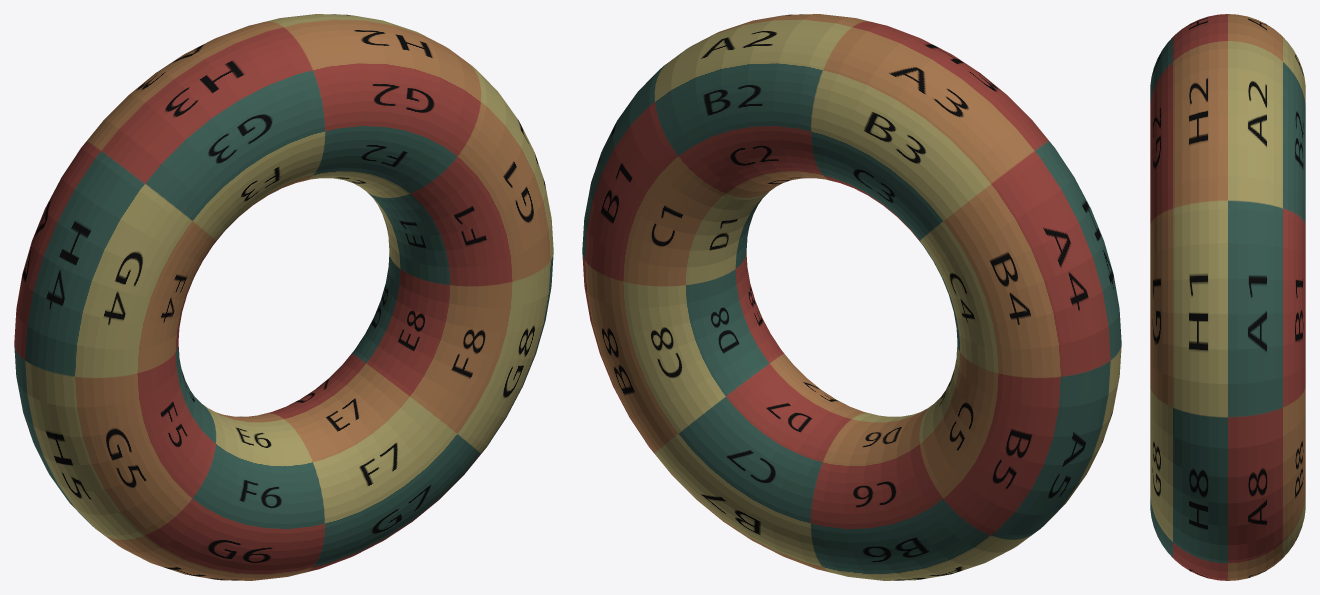
Rendered from texture_torus_R14_r20.glb.
3 renders of one model, left to right at view 1: azimuth 30°, elevation 25°; view 2: azimuth 150°, elevation 25°; view 3: azimuth 270°, elevation 25°, orthographic. The views are drawn at different scales.
Visible parts, largest first — view 1: world; view 2: world; view 3: world.
Boxes of the visible parts, x1,y1,x2,y2 form: world: (14, 14, 553, 580); world: (582, 14, 1121, 580); world: (1150, 14, 1305, 580).
Bounding box in the file's own units: 26.67 × 26.61 × 7.32.
Materials: 1 (1 with a texture image).
